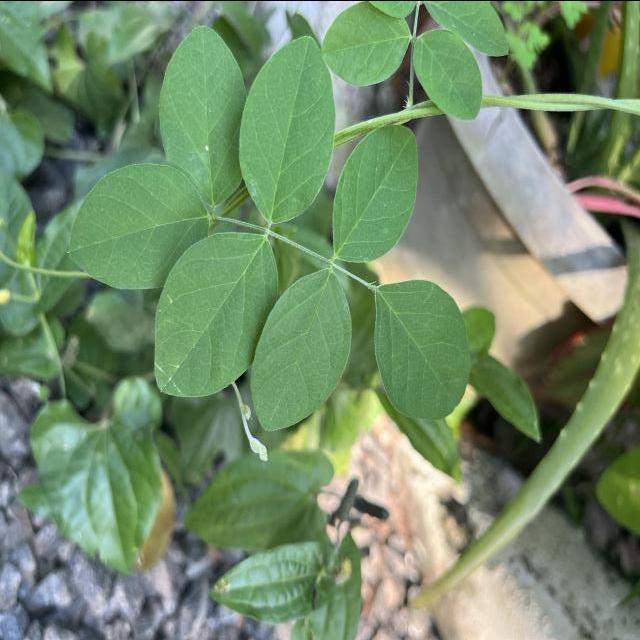Clitoria ternatea: (153, 230, 280, 398), (237, 34, 337, 224), (67, 161, 211, 290), (157, 23, 247, 210), (250, 268, 352, 432), (373, 278, 472, 420), (330, 122, 420, 264)
